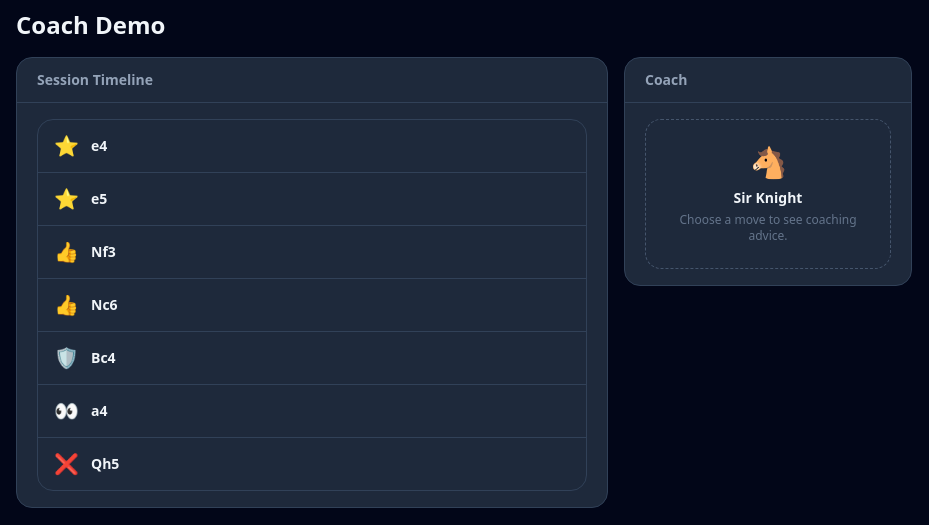
Test case: CoachDemoPage › updates coach panel when a move is clicked
Click the text "e4".
click(99, 146)  # box [91,136,107,155]
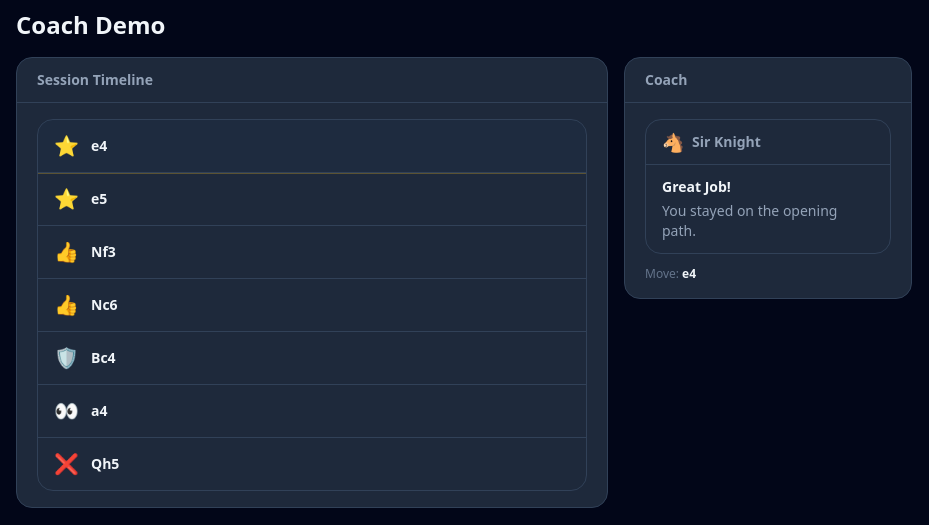
Now the text "Great Job!" is shown, box [662,177,731,196]
Now the text "You stayed on the opening path." is shown, box [662,201,837,240]
